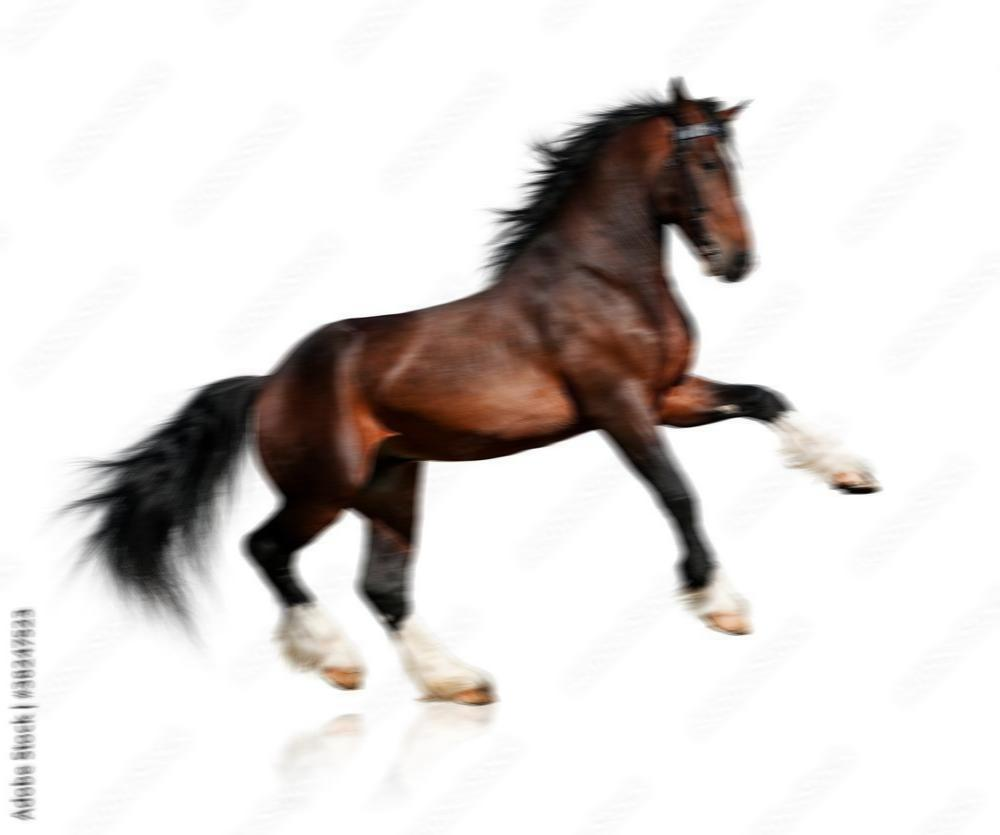horse: (45, 71, 888, 716)
